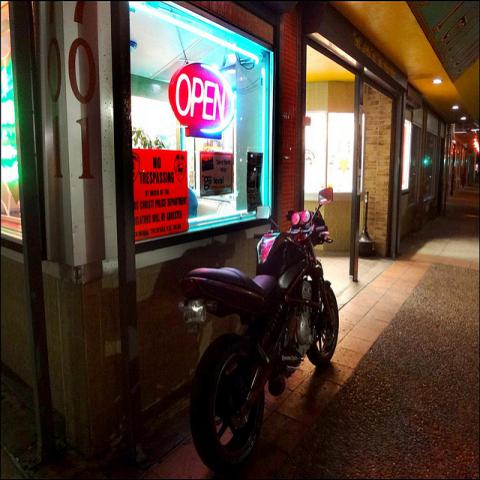motorcycle: (170, 184, 346, 470)
